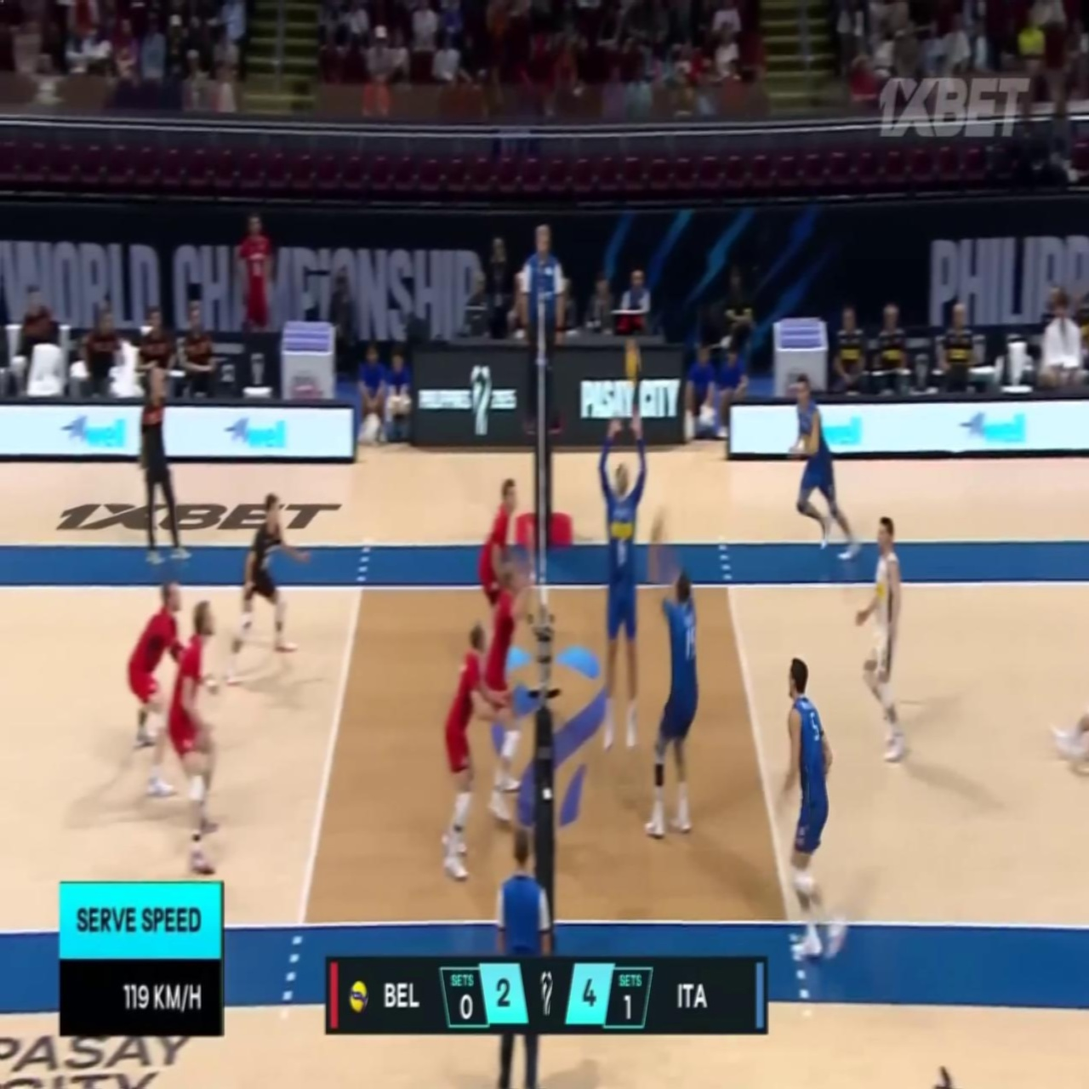ball: (624, 346, 639, 376)
